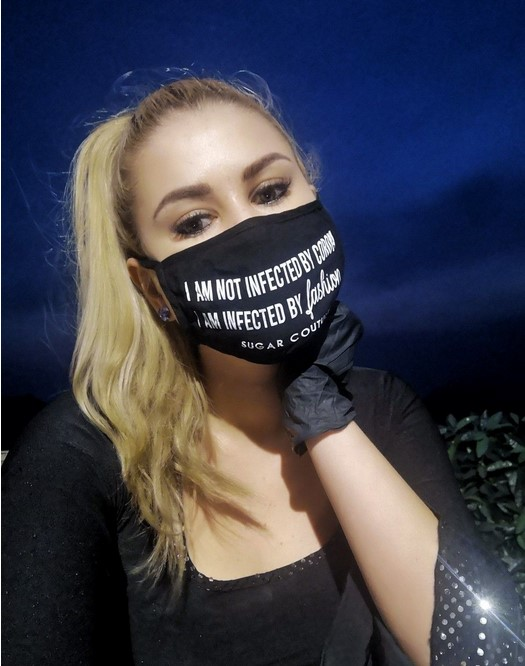face_with_mask: (85, 71, 347, 397)
